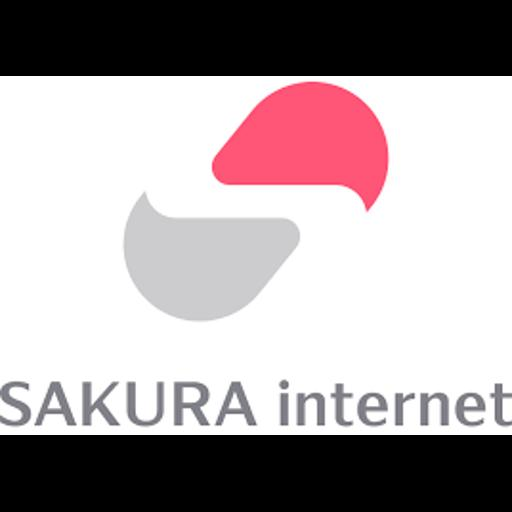Sakura Internet: (0, 76, 512, 435)
